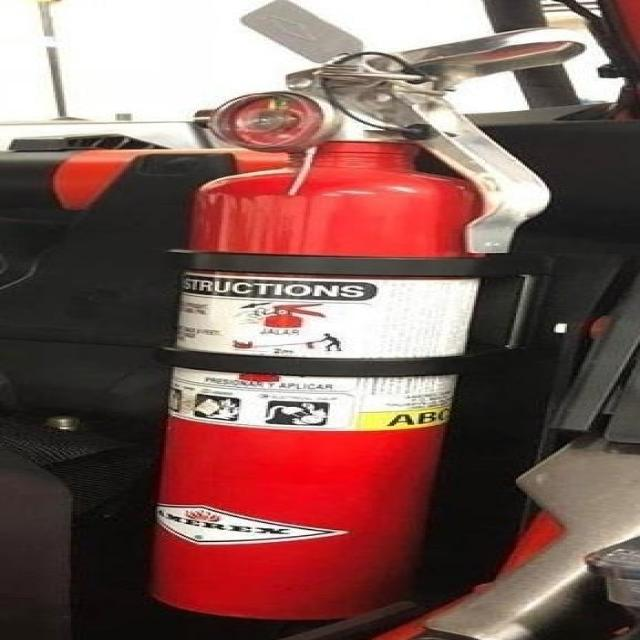fire_extinguisher: (138, 0, 582, 620)
